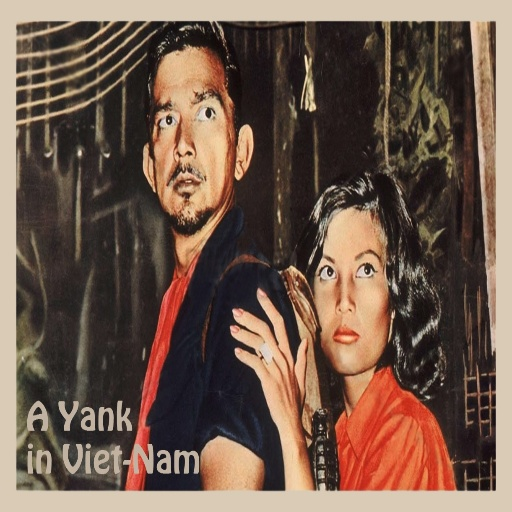hand: (232, 275, 302, 475)
